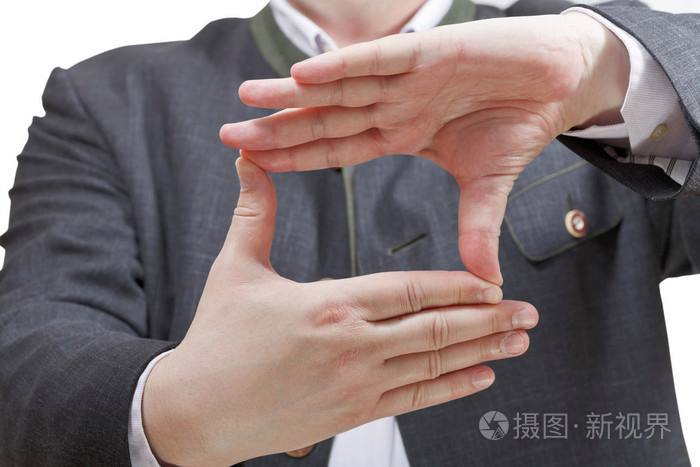no-phone: (146, 155, 543, 456), (218, 11, 592, 288)
